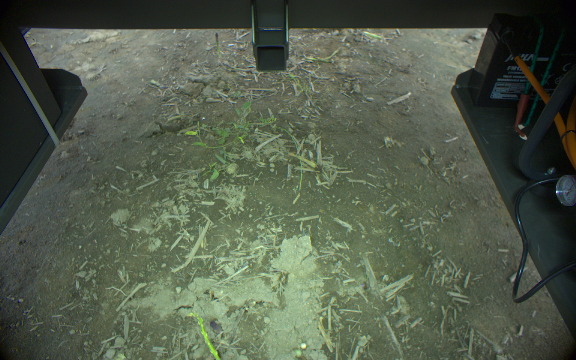aspa: (188, 311, 224, 360), (213, 32, 223, 59)
